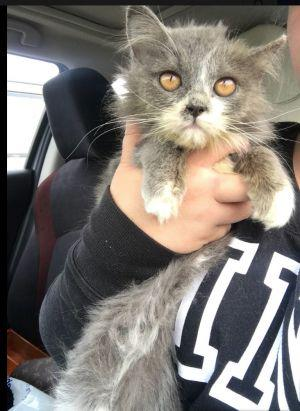persian: (109, 1, 291, 168)
